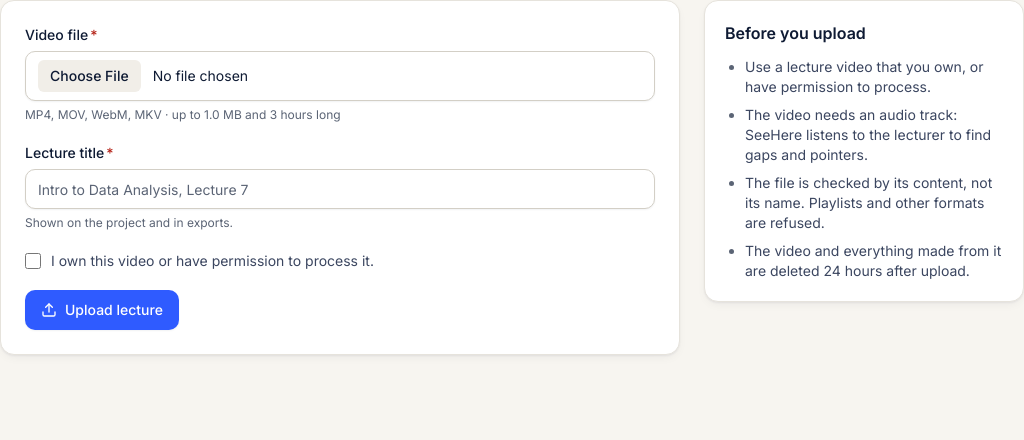
Scenario: UploadForm › lists every problem and focuses the first invalid field
Expected: the text "MP4, MOV, WebM, MKV · up to 1.0 MB and 3 hours long" is shown, [25, 107, 341, 122]
What coordinates should you click on to do the following:
click the button "Upload lecture"
I would click on:
 (102, 310)
Its box is [25, 290, 179, 330].
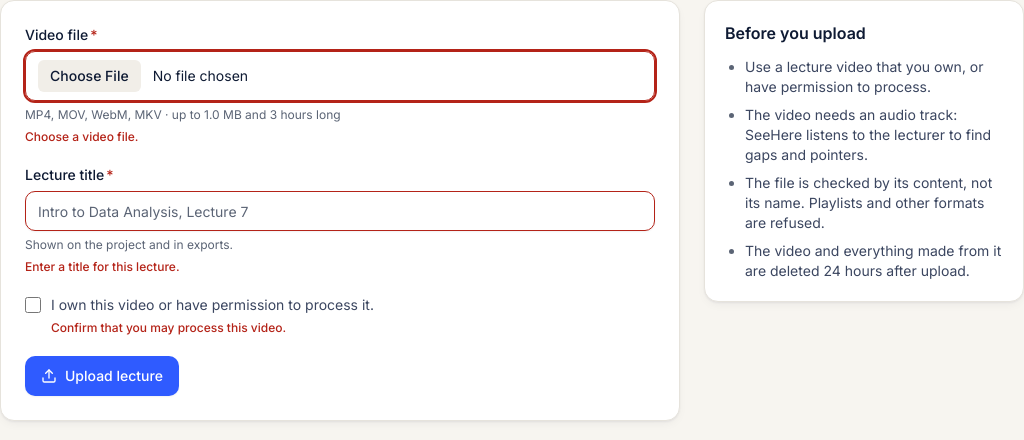
Result: the text "Enter a title for this lecture." is shown at [25, 259, 180, 274]
Result: the text "Choose a video file." is shown at [25, 129, 138, 144]
Result: the text "Confirm that you may process this video." is shown at [51, 320, 286, 335]
